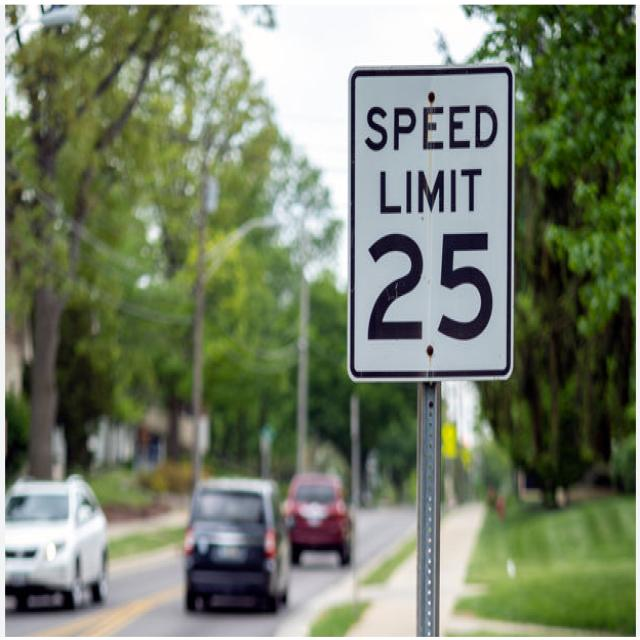speedLimit25: (346, 63, 517, 384)
